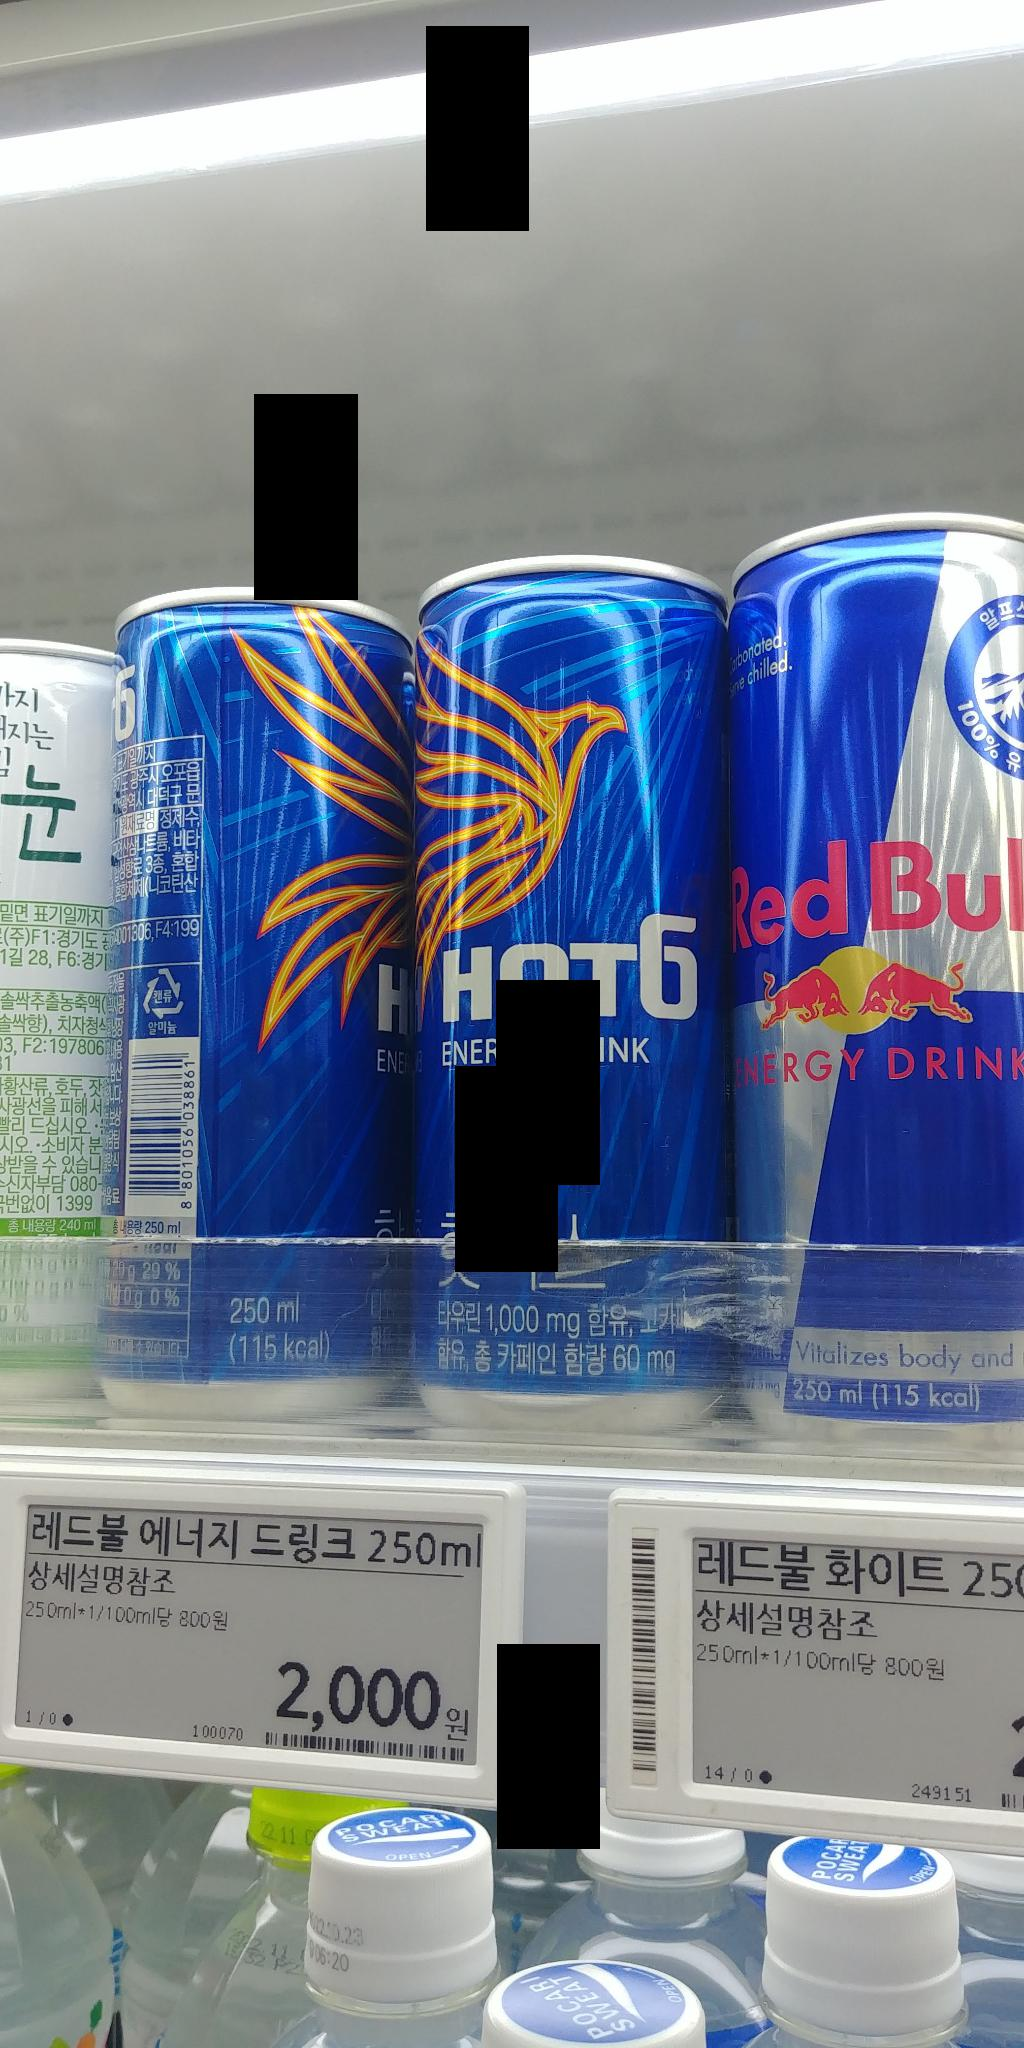hotsix_org: (388, 516, 741, 1445), (90, 580, 421, 1420)
